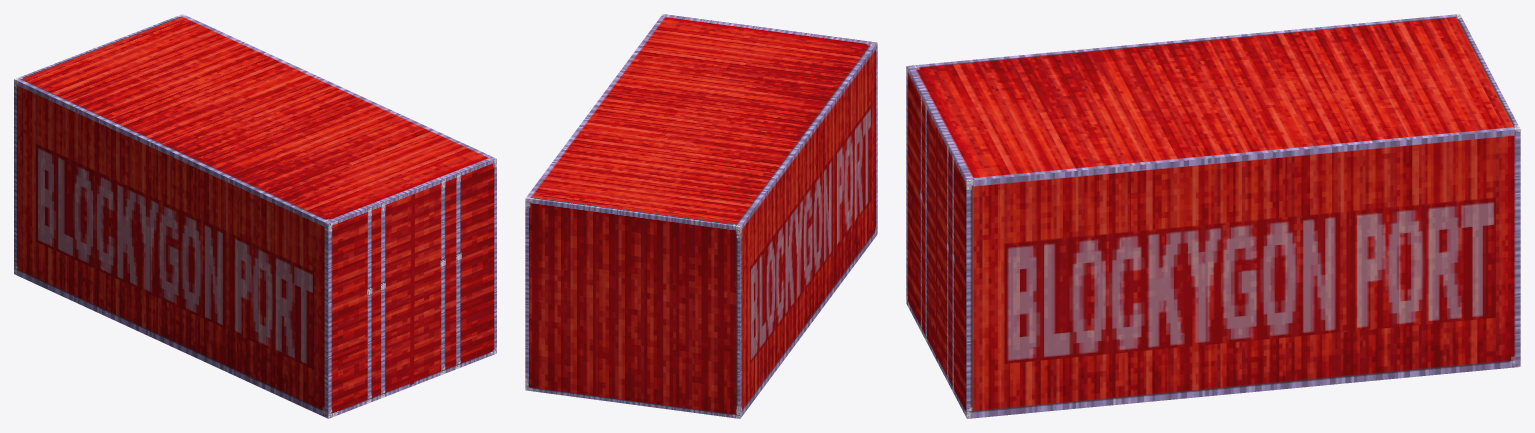
File: BLOCKYGON_RED CONTAINER(CLOSED).fbx
3 views of the same model, side by side, from view 1: azimuth 30°, elevation 25°; view 2: azimuth 150°, elevation 25°; view 3: azimuth 270°, elevation 25° (orthographic). The views are drawn at different scales.
Visible parts, largest first — view 1: BLOCKYGON_RED_CONTAINER_CLOSED_; view 2: BLOCKYGON_RED_CONTAINER_CLOSED_; view 3: BLOCKYGON_RED_CONTAINER_CLOSED_.
Boxes of the visible parts, x1=… form: BLOCKYGON_RED_CONTAINER_CLOSED_: x1=14, y1=14, x2=496, y2=418; BLOCKYGON_RED_CONTAINER_CLOSED_: x1=525, y1=14, x2=877, y2=418; BLOCKYGON_RED_CONTAINER_CLOSED_: x1=906, y1=14, x2=1520, y2=418.
Bounding box in the file's own units: 308 × 204 × 478.
